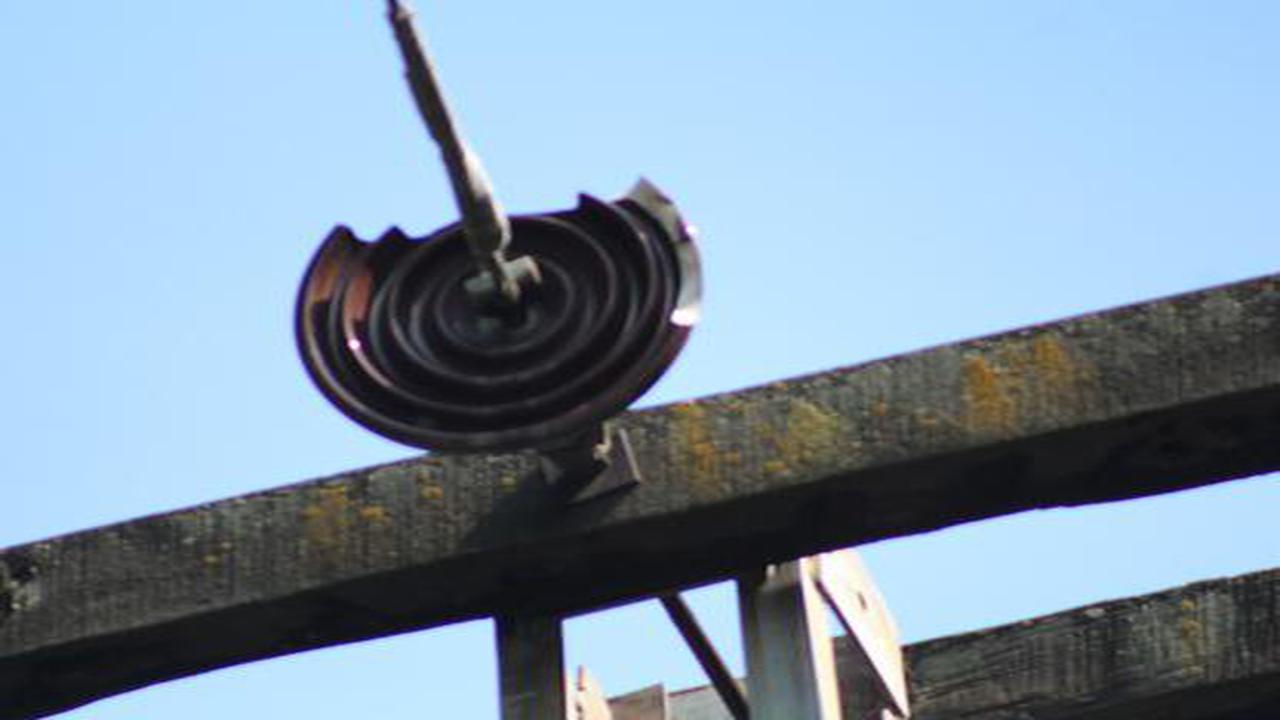defect_disc: (289, 183, 711, 441)
